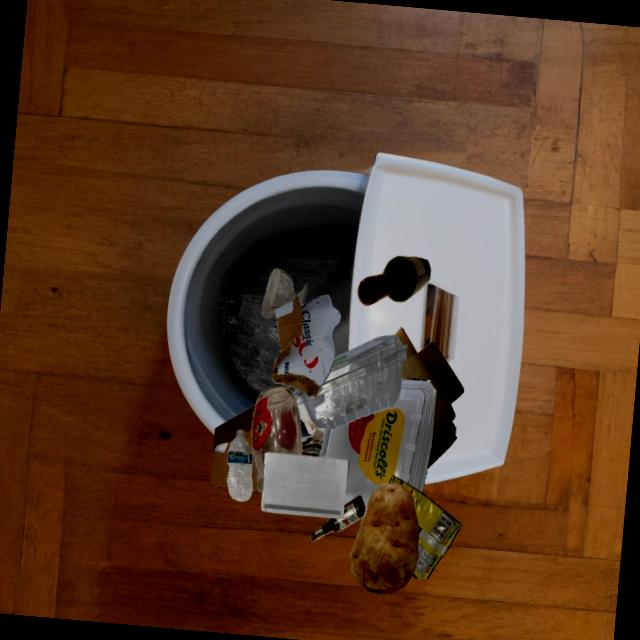biowaste: (350, 482, 419, 593)
cardboard: (393, 327, 463, 468), (271, 294, 340, 397), (210, 403, 256, 488)
glass: (251, 385, 302, 493), (357, 255, 430, 305), (309, 495, 365, 541), (261, 268, 307, 318)
paper: (261, 451, 349, 518), (297, 403, 325, 456)
plastic: (319, 379, 436, 509), (293, 335, 407, 428), (226, 429, 252, 501)
trash: (388, 474, 461, 579)
